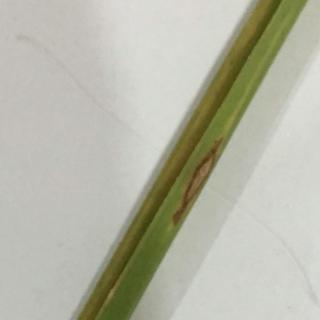Blast: (174, 137, 228, 234)
